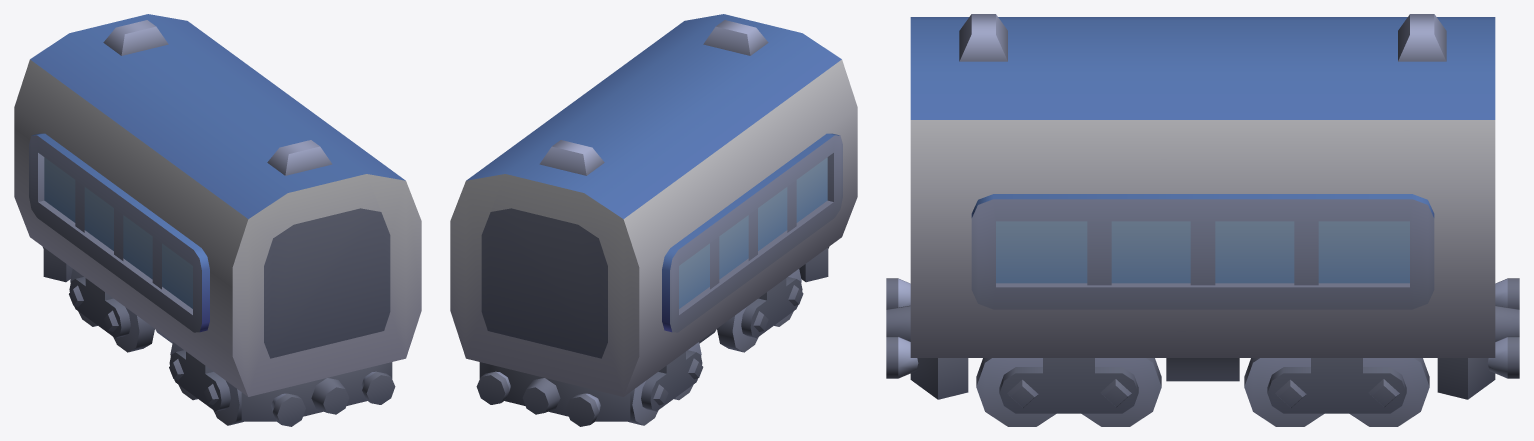
File: train-electric-bullet-c.glb
The picture shows the model from 3 angles, left to right: view 1: azimuth 30°, elevation 25°; view 2: azimuth 150°, elevation 25°; view 3: azimuth 270°, elevation 25°; orthographic projection. The views are drawn at different scales.
Parts seen in each view (by area): view 1: train-electric-bullet-c, wheels-back, wheels-front; view 2: train-electric-bullet-c, wheels-front, wheels-back; view 3: train-electric-bullet-c, wheels-front, wheels-back.
Part boxes in pixels (left/top/right/bottom): train-electric-bullet-c: left=14, top=14, right=421, bottom=426; wheels-back: left=69, top=269, right=154, bottom=352; wheels-front: left=169, top=342, right=243, bottom=425; train-electric-bullet-c: left=450, top=14, right=857, bottom=426; wheels-front: left=717, top=269, right=803, bottom=352; wheels-back: left=628, top=342, right=703, bottom=425; train-electric-bullet-c: left=886, top=14, right=1519, bottom=399; wheels-front: left=976, top=358, right=1161, bottom=426; wheels-back: left=1244, top=358, right=1429, bottom=426.
Bounding box in the file's own units: 1.3 × 1.64 × 2.6.
